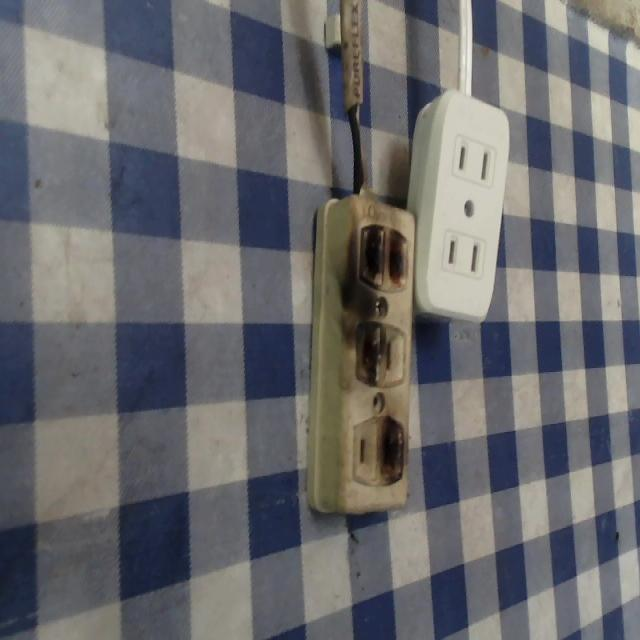-: (352, 209, 416, 296), (351, 309, 386, 399), (376, 411, 411, 493)
